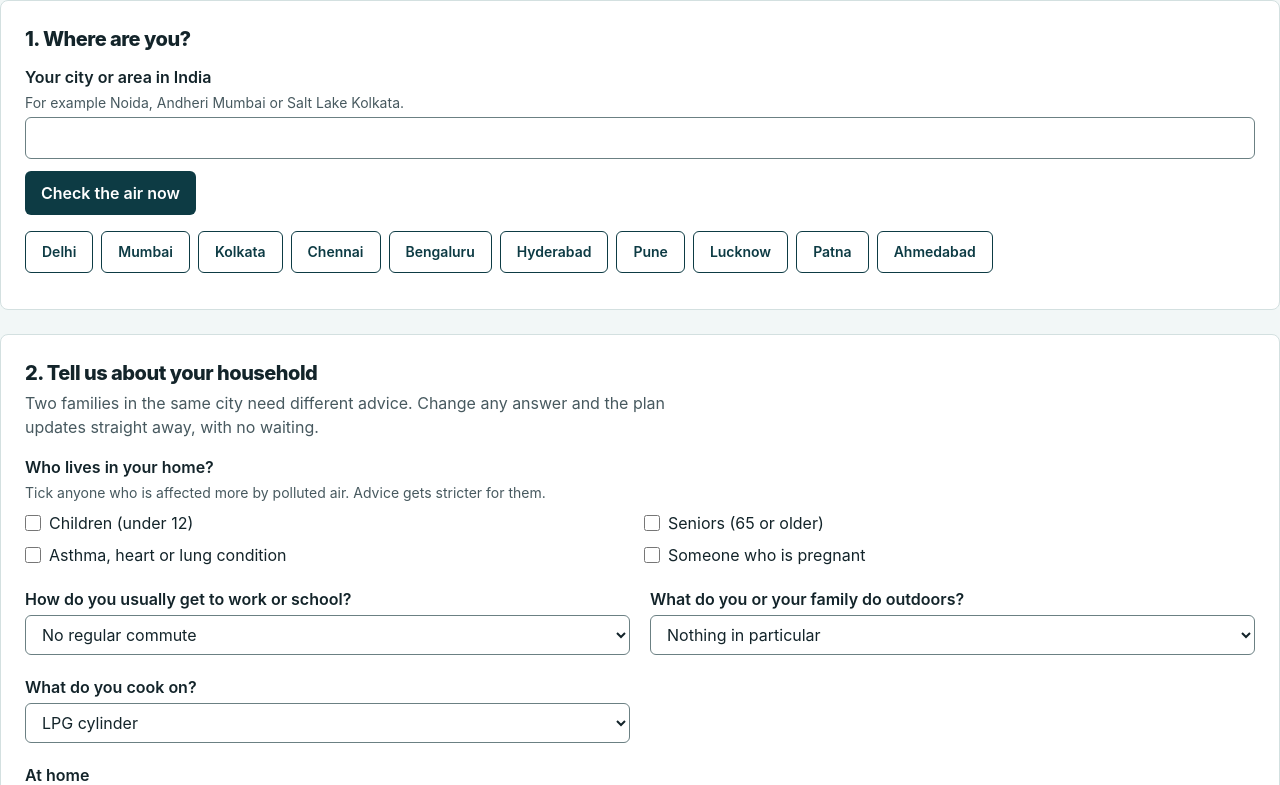
Test case: checking the air › shows the whole plan: day plan, routine, indoor and greener choices
Step 1. Click the button "Delhi" → [59, 252], box [25, 231, 93, 273]
(page scrolled)
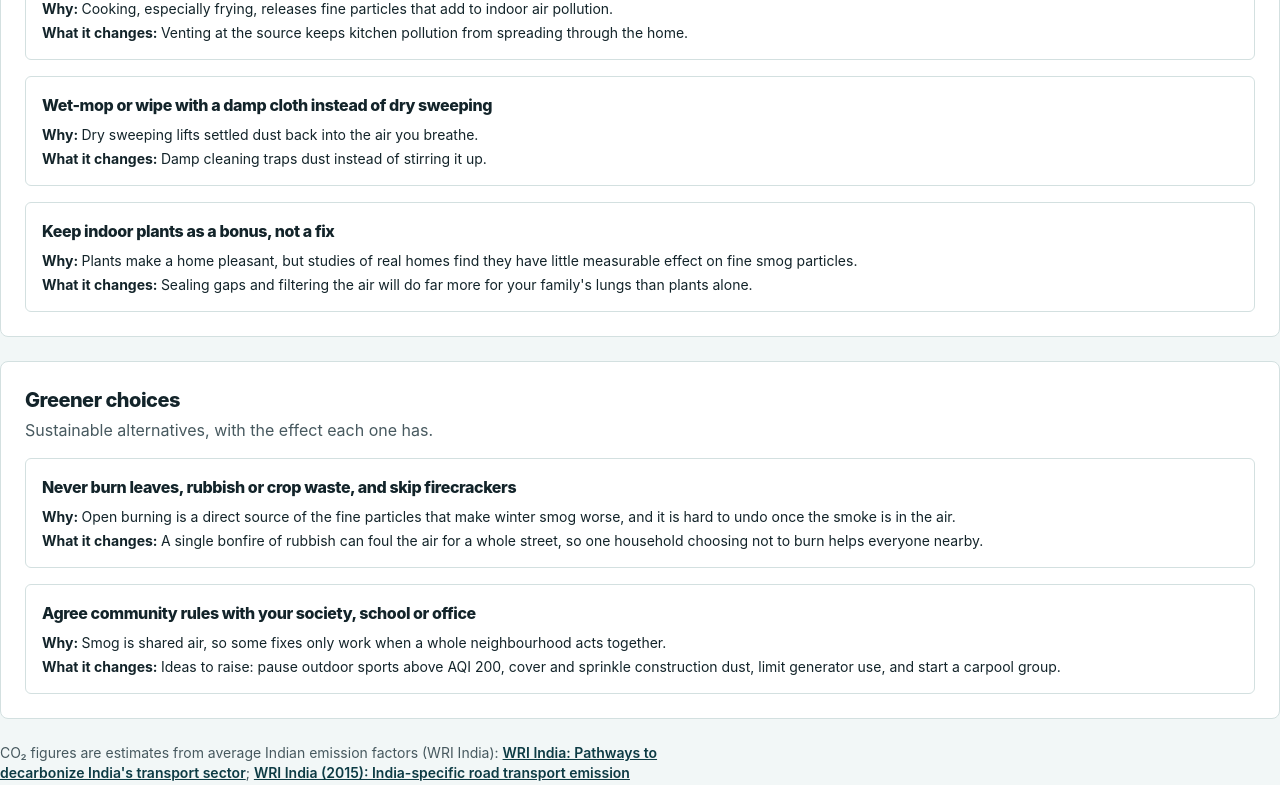
Check: the heading "Greener choices" is shown, box [25, 388, 180, 412]
